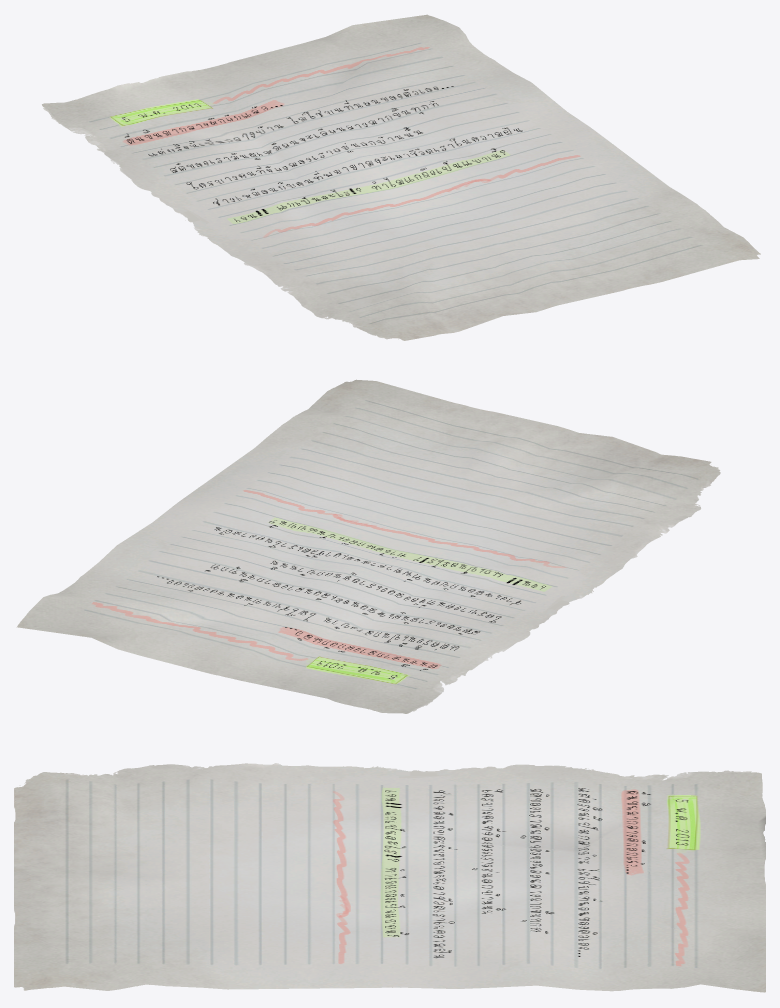
The model's file is diary03.FBX.
3 renders of one model, top to bottom at view 1: azimuth 30°, elevation 25°; view 2: azimuth 150°, elevation 25°; view 3: azimuth 270°, elevation 25°, orthographic. The views are drawn at different scales.
Visible parts, largest first — view 1: SM_Diary2; view 2: SM_Diary2; view 3: SM_Diary2.
Boxes of the visible parts, box(x1,y1,x2,y2) form: SM_Diary2: box(42, 14, 760, 340); SM_Diary2: box(16, 379, 720, 713); SM_Diary2: box(14, 763, 765, 992).
Bounding box in the file's own units: 18.8 × 0.5262 × 26.3.
1 material, 1 textured.
